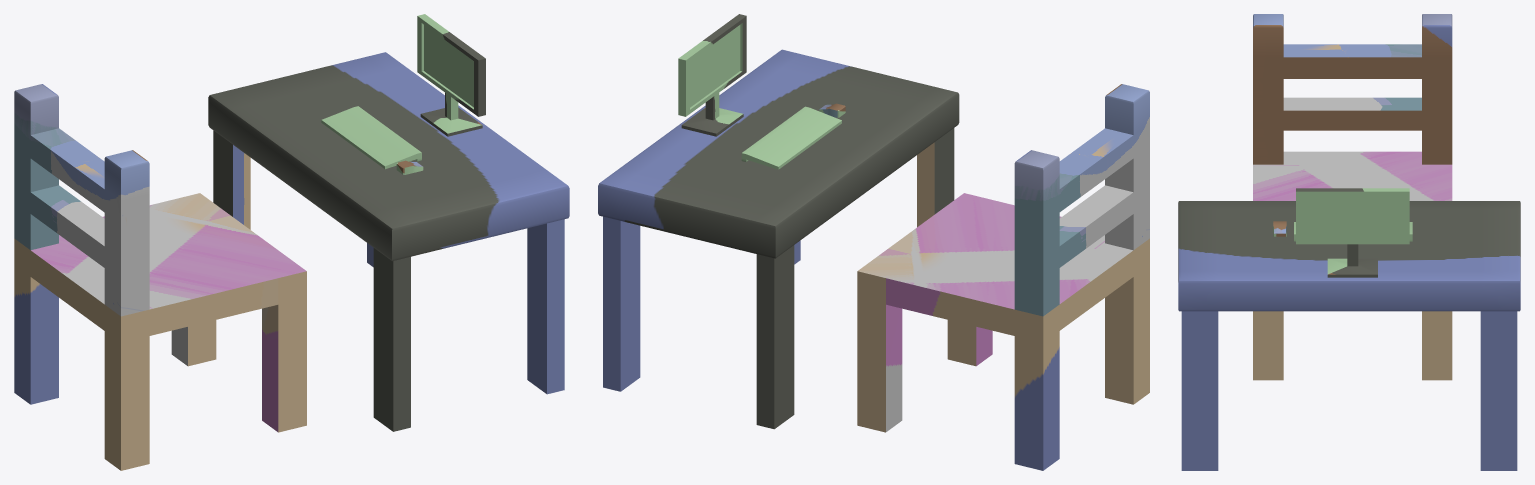
Rendered from TowerManager.fbx.
The picture shows the model from 3 angles, left to right: view 1: azimuth 30°, elevation 25°; view 2: azimuth 150°, elevation 25°; view 3: azimuth 270°, elevation 25°; orthographic projection. The views are drawn at different scales.
Parts seen in each view (by area): view 1: Box002, Box001, Box003, Box004; view 2: Box002, Box001, Box003, Box004; view 3: Box001, Box002, Box003.
Boxes of the visible parts, x1,y1,x2,y2 form: Box002: [14, 84, 306, 470]; Box001: [208, 52, 569, 431]; Box003: [417, 14, 485, 136]; Box004: [321, 106, 421, 169]; Box002: [857, 84, 1149, 470]; Box001: [598, 49, 959, 429]; Box003: [678, 14, 746, 136]; Box004: [741, 106, 841, 169]; Box001: [1178, 201, 1520, 470]; Box002: [1253, 14, 1452, 380]; Box003: [1296, 188, 1409, 277].
Size of the model in its own units: 64.82 by 45.94 by 50.46.
